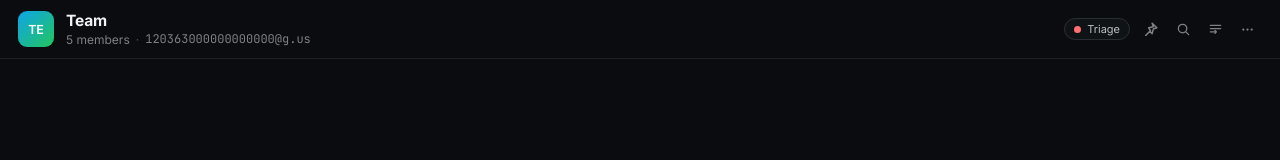
it: ChatTopbar — overflow menu › selecting Rename chat opens the inline editor
The image size is (1280, 160).
Click the button named "more actions": (1247, 29) [1232,14,1262,44]
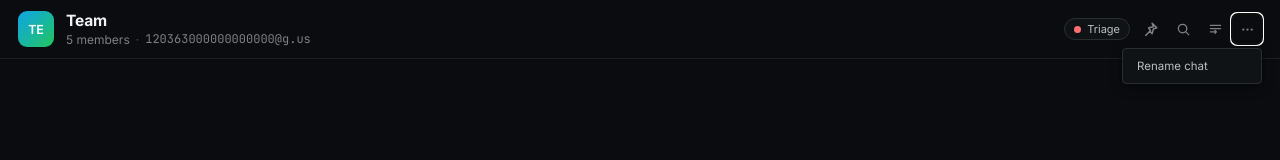
Click the menu item "Rename chat": (1192, 66) [1127,53,1257,79]
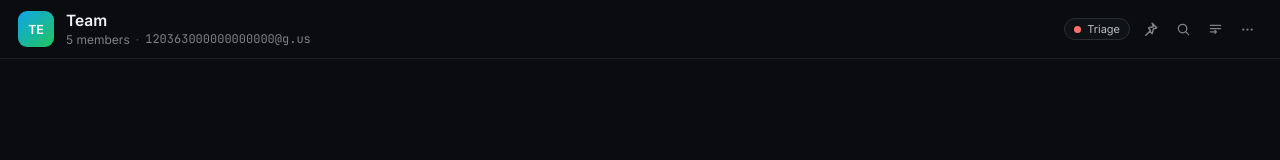
Now the field is shown, box [66,11,311,31]
